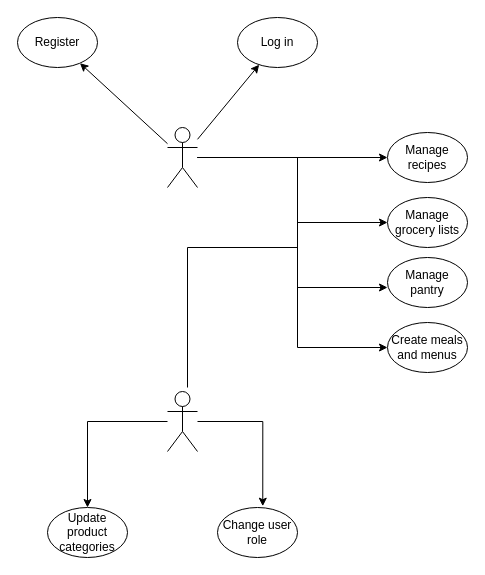
The diagram is 485 pixels wide and 575 high, and some of its shapes have lost their labels. Each missing label, with the centre of its shape:
"Admin" belongs at pixel 182 421.
"Basic" belongs at pixel 182 157.
